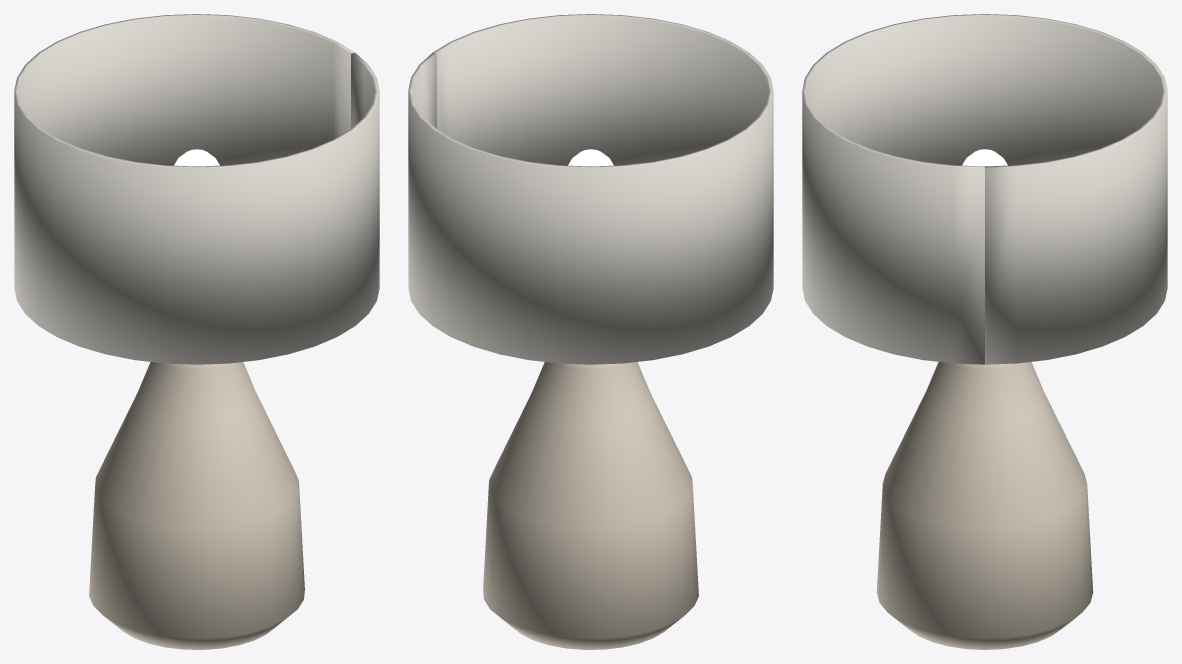
The model's file is mo_table_lamp.glb.
3 views of the same model, side by side, from view 1: azimuth 30°, elevation 25°; view 2: azimuth 150°, elevation 25°; view 3: azimuth 270°, elevation 25° (orthographic).
Visible parts, largest first — view 1: shade, base, bulb; view 2: shade, base, bulb; view 3: shade, base, bulb.
Part boxes in pixels (left/top/right/bottom): shade: left=14, top=14, right=379, bottom=364; base: left=89, top=362, right=304, bottom=649; bulb: left=174, top=149, right=219, bottom=166; shade: left=408, top=14, right=773, bottom=364; base: left=483, top=362, right=698, bottom=649; bulb: left=568, top=149, right=613, bottom=166; shade: left=802, top=14, right=1167, bottom=364; base: left=876, top=362, right=1093, bottom=649; bulb: left=962, top=149, right=1007, bottom=166.
Bounding box in the file's own units: 0.304 × 0.48 × 0.304.
